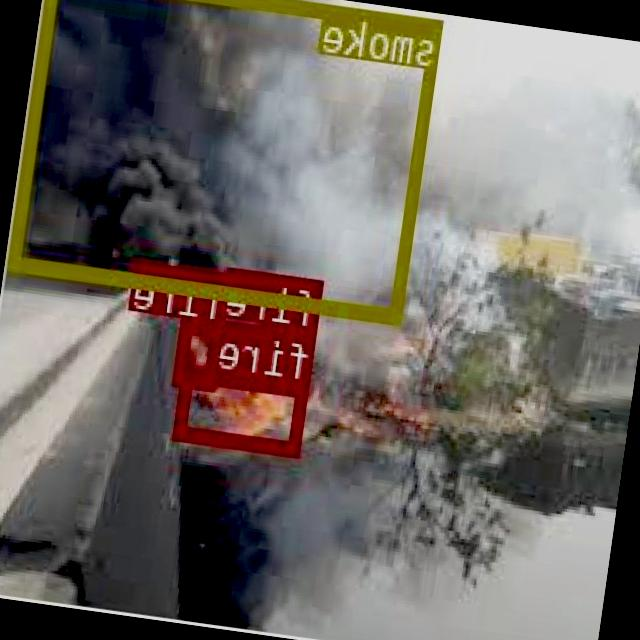fire: (177, 366, 311, 454), (177, 318, 227, 388), (257, 323, 318, 374)
smoke: (11, 0, 446, 323)
